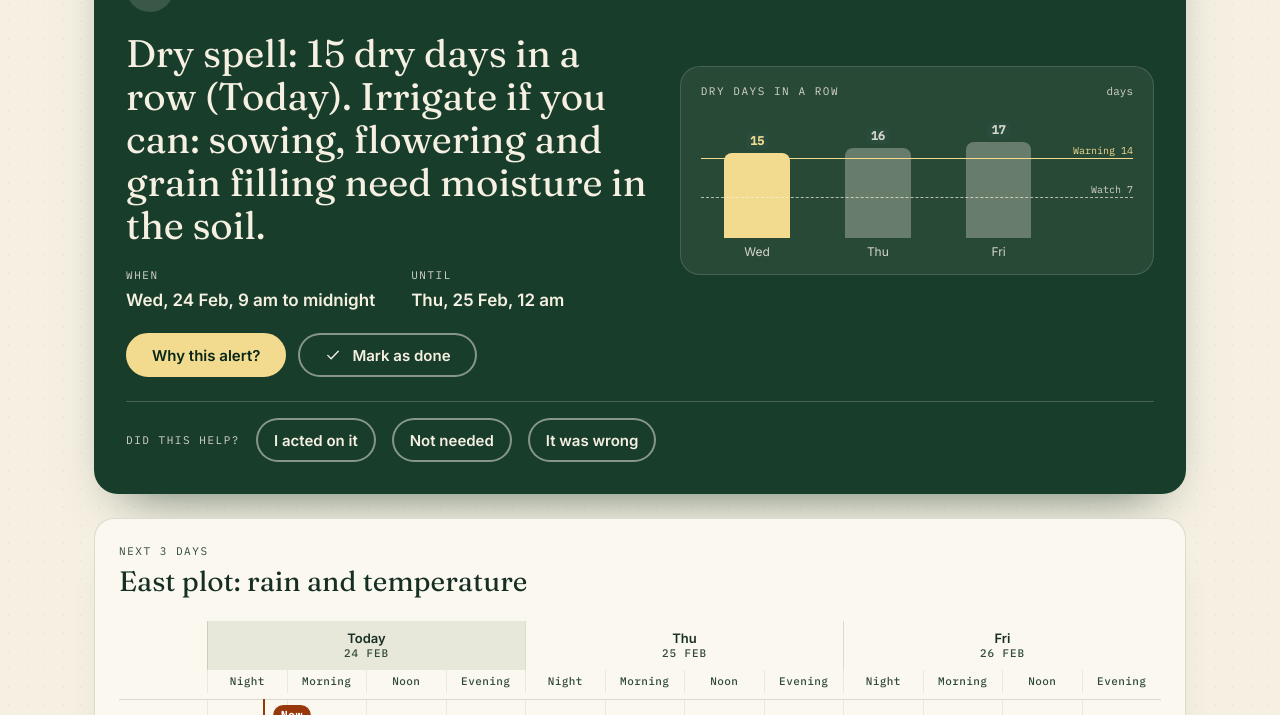
it: dry spell › "Why this alert?" names the 2.5 mm day, the level and IMD
The image size is (1280, 715).
(page scrolled)
Click the button "Why this alert?": click(206, 355) top-left (126, 333), bottom-right (286, 377)
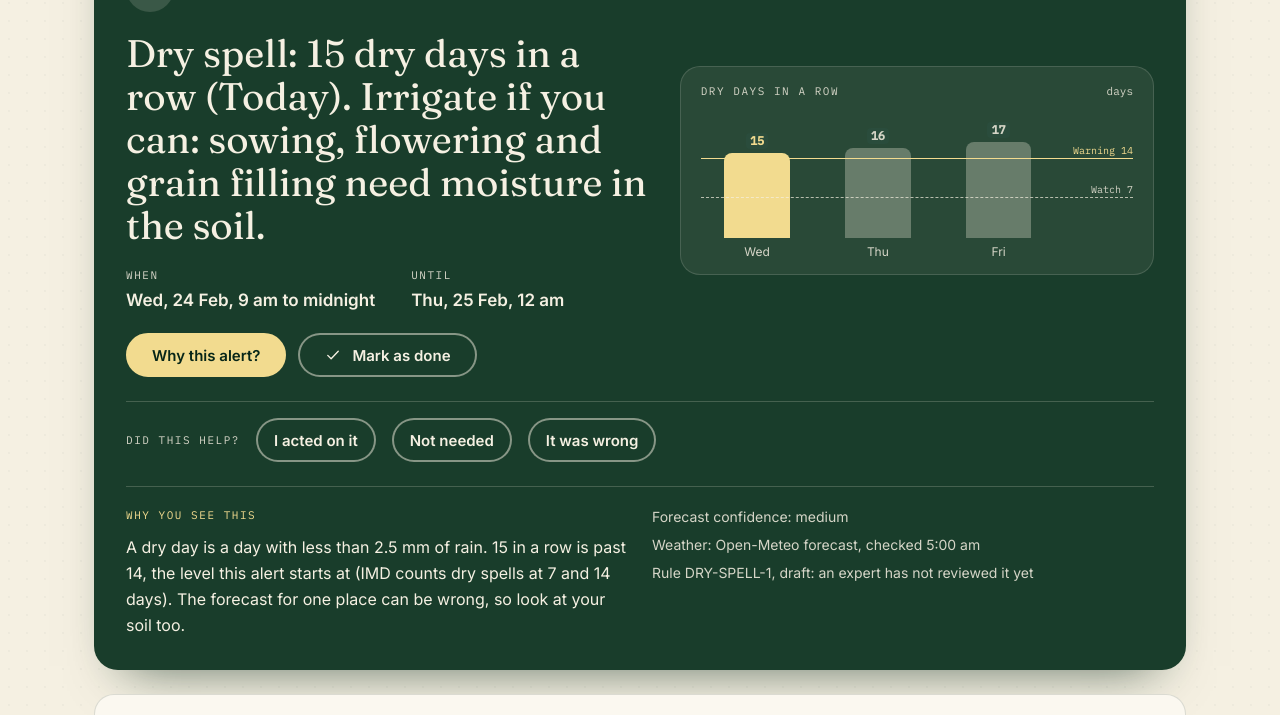
Expected: the text "IMD counts dry spells at 7 and 14 days" is shown, top-left (126, 537), bottom-right (626, 635)
